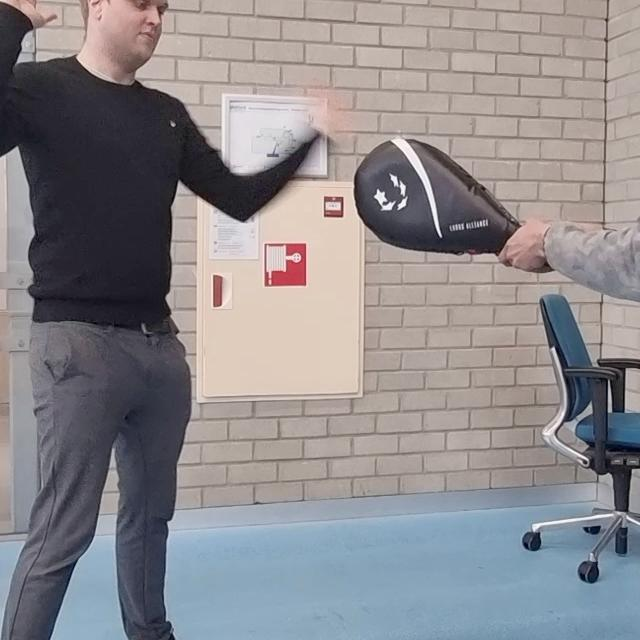paddle: (357, 138, 523, 256)
